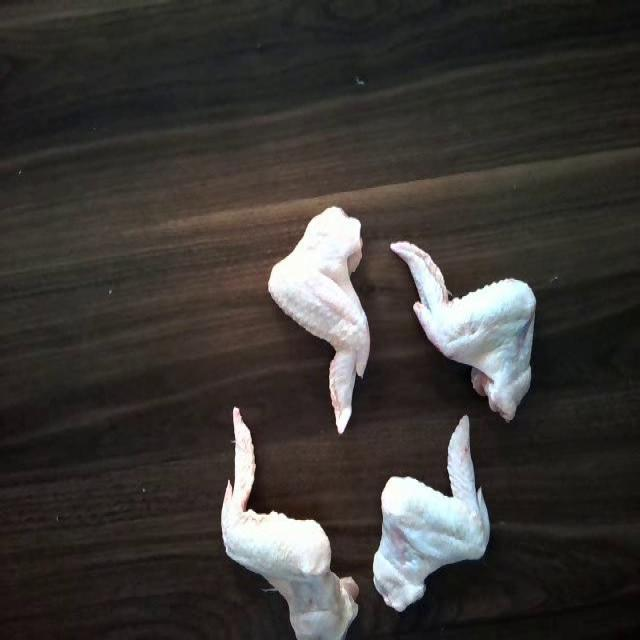wing: (214, 411, 358, 634), (383, 233, 541, 433), (369, 410, 493, 614), (272, 198, 372, 436)
